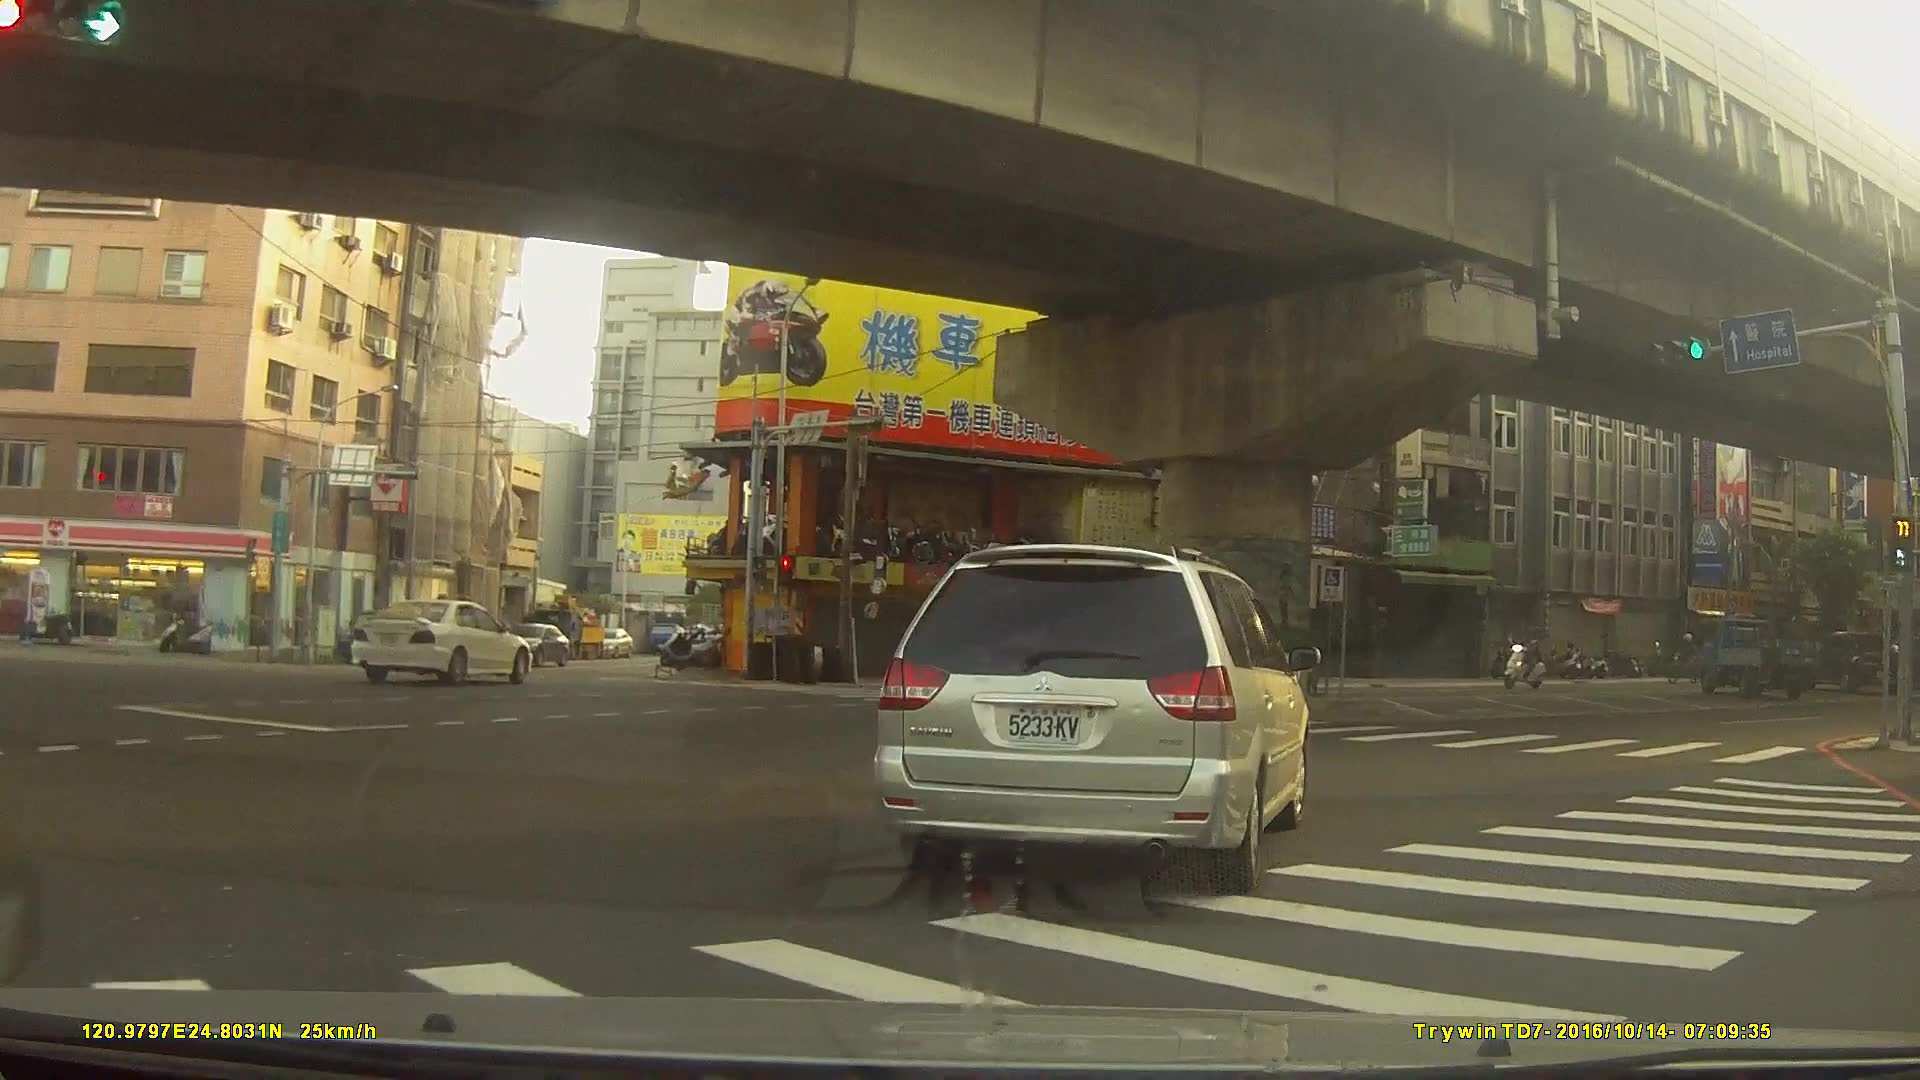rider: (1506, 632, 1551, 690), (1667, 631, 1707, 683)
vehicle: (873, 541, 1312, 893), (351, 599, 533, 685), (1694, 612, 1821, 697), (1801, 626, 1897, 691), (496, 620, 570, 664), (593, 625, 633, 656)
